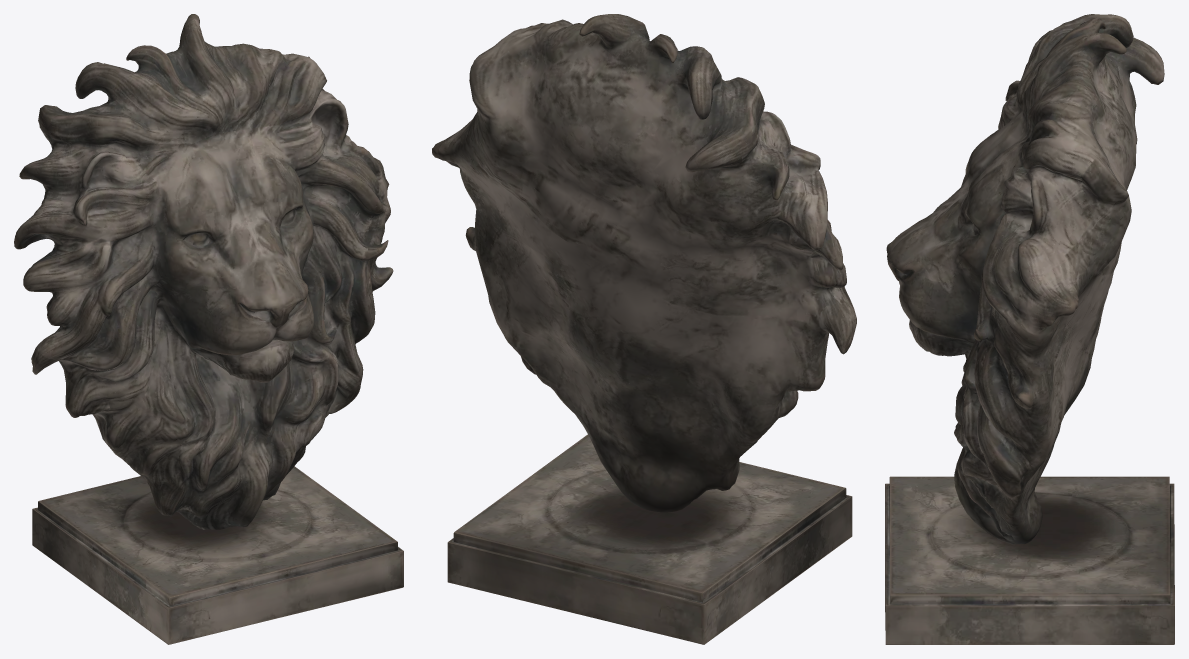
Rendered from lion_head.glb.
The picture shows the model from 3 angles, left to right: view 1: azimuth 30°, elevation 25°; view 2: azimuth 150°, elevation 25°; view 3: azimuth 270°, elevation 25°; orthographic projection. The views are drawn at different scales.
Visible parts, largest first — view 1: lion_head; view 2: lion_head; view 3: lion_head.
Boxes of the visible parts, box(x1,y1,x2,y2) form: lion_head: box(14, 14, 403, 644); lion_head: box(432, 14, 856, 644); lion_head: box(885, 14, 1174, 644).
Size of the model in its own units: 0.3208 by 0.4364 by 0.2066.
1 material, 1 textured.
